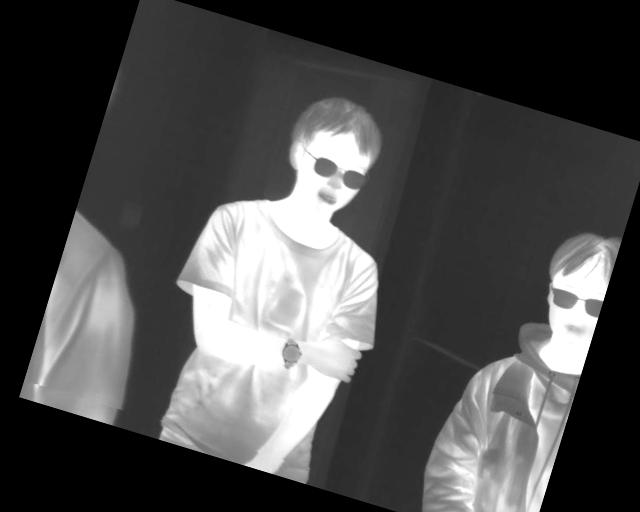face: (274, 86, 392, 226), (528, 218, 622, 350)
